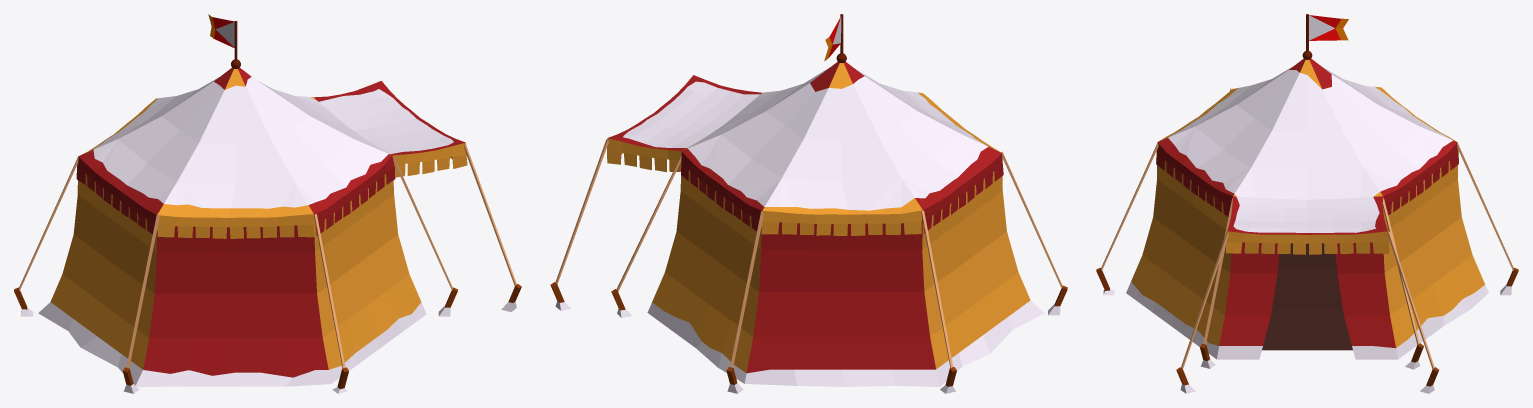
The model's file is tent3.glb.
3 views of the same model, side by side, from view 1: azimuth 30°, elevation 25°; view 2: azimuth 150°, elevation 25°; view 3: azimuth 270°, elevation 25° (orthographic). The views are drawn at different scales.
Visible parts, largest first — view 1: Tent3; view 2: Tent3; view 3: Tent3.
Part boxes in pixels (<box>): Tent3: <box>14,14,521,393</box>; Tent3: <box>550,14,1067,393</box>; Tent3: <box>1096,14,1518,393</box>.
Size of what is drawn, in the model's own units: 4.57 by 3.31 by 4.55.
Materials: 1 (1 with a texture image).
